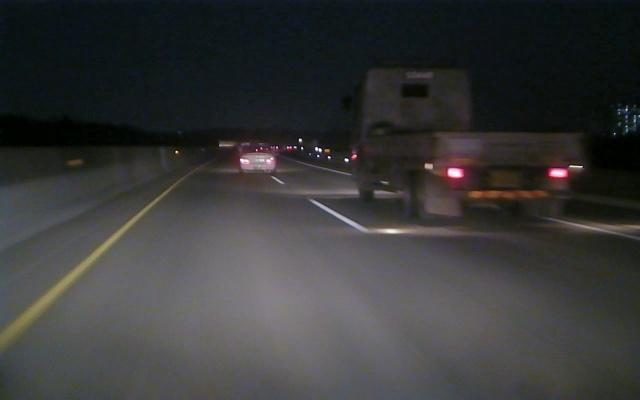lane: (288, 161, 640, 243), (0, 191, 169, 355), (271, 176, 374, 233)
